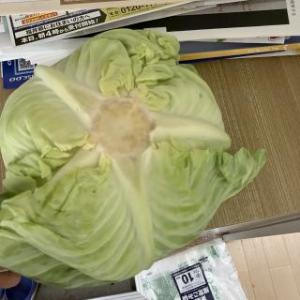cabbage: (0, 28, 268, 292)
